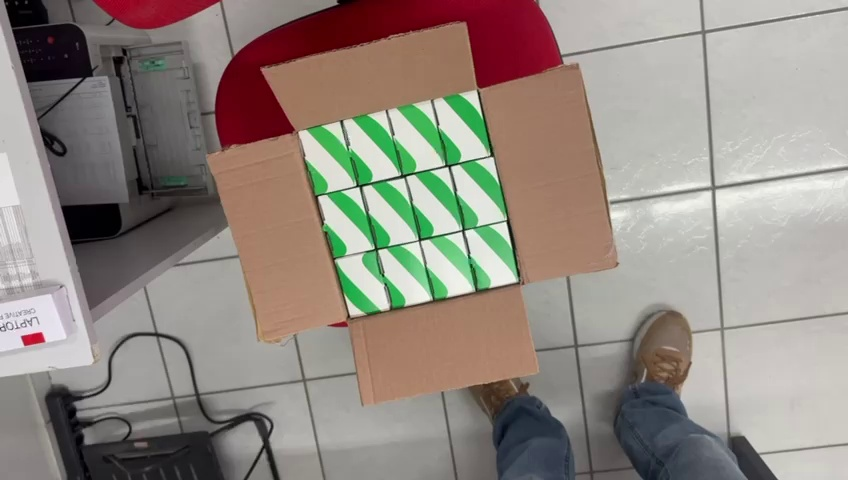divisor: (406, 166, 464, 248), (296, 120, 358, 196), (341, 109, 403, 185), (385, 98, 447, 174), (430, 91, 492, 166), (360, 176, 420, 249), (450, 156, 508, 229), (316, 186, 375, 256), (333, 249, 392, 319), (376, 242, 432, 311), (464, 221, 518, 292), (421, 232, 476, 301)
